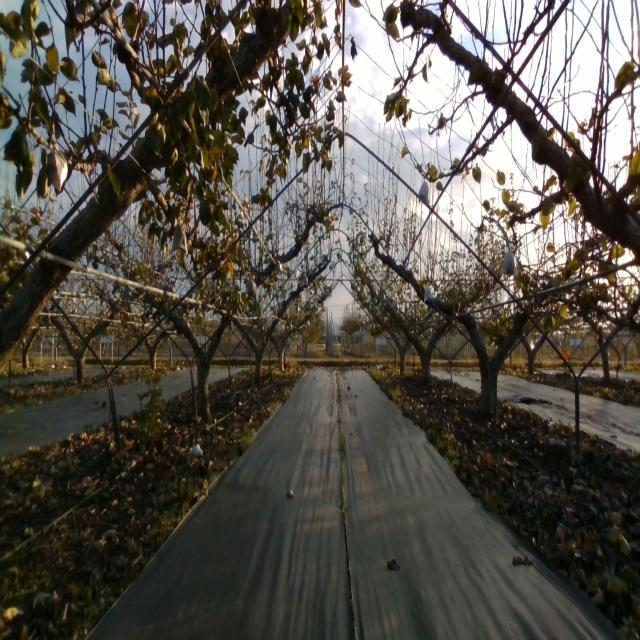pearbags: (46, 138, 70, 195), (171, 223, 188, 256), (500, 248, 517, 280), (418, 178, 430, 205), (245, 277, 258, 301), (423, 282, 436, 302)
